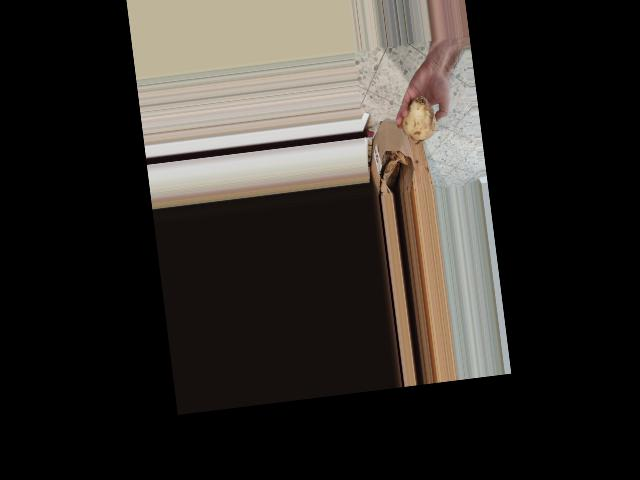onion: (396, 90, 442, 145)
